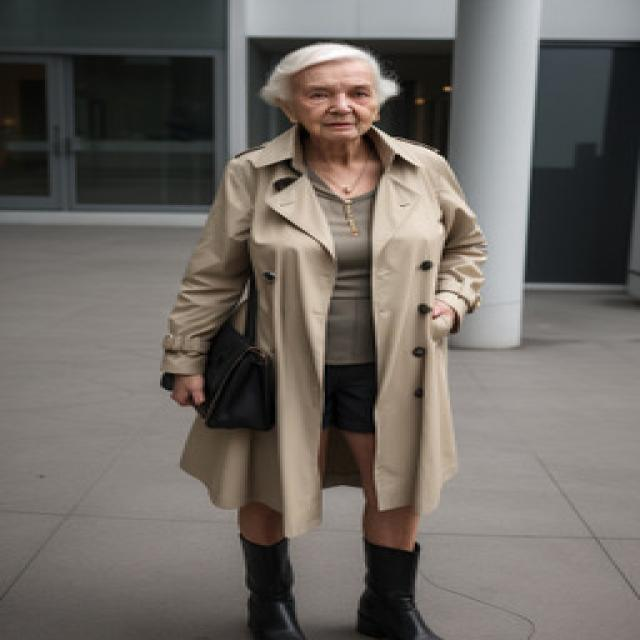Ai human 2: (143, 35, 505, 640)
